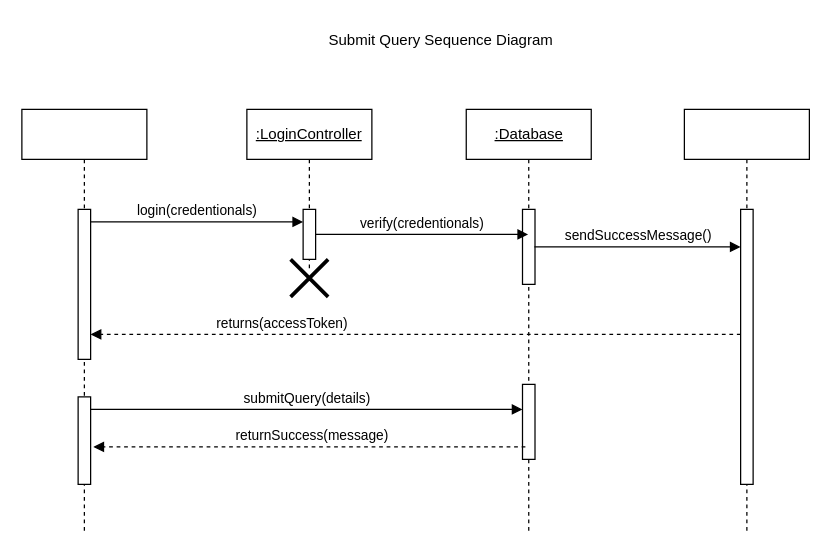
The diagram is 831 pixels wide and 556 high, and some of its shapes have lost their labels. The box of each missing label's shape, as (x1, y1, x2, y2) in pixels:
:App: (683, 108, 809, 534)
:User: (21, 108, 147, 534)
